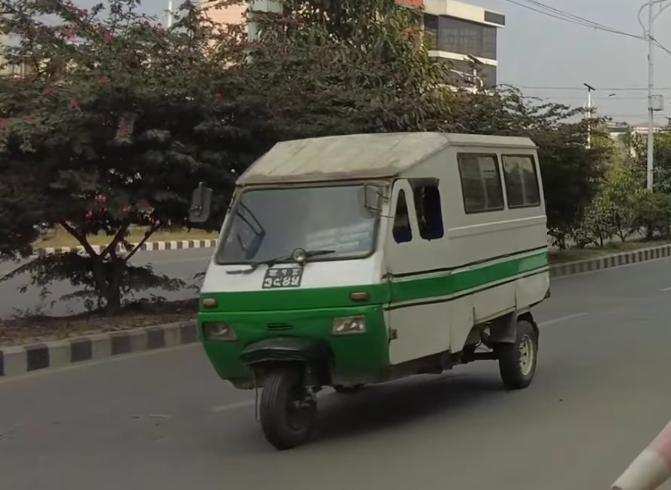tempo: (194, 122, 556, 456)
